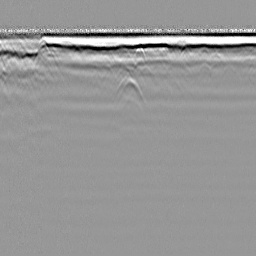cavity: (113, 75, 145, 103)
